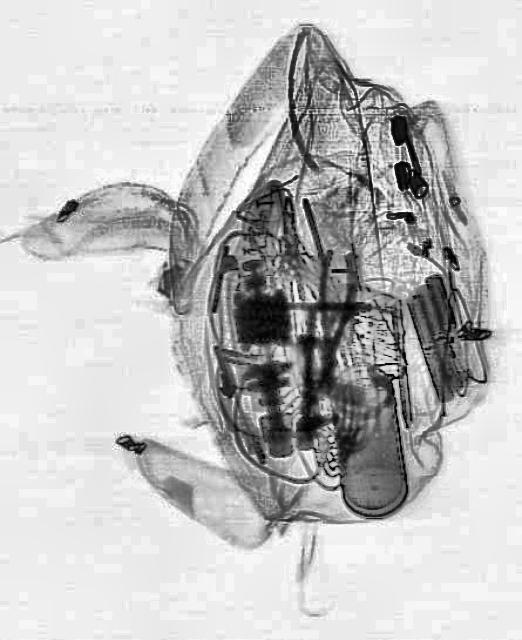Pliers: (304, 246, 360, 392)
